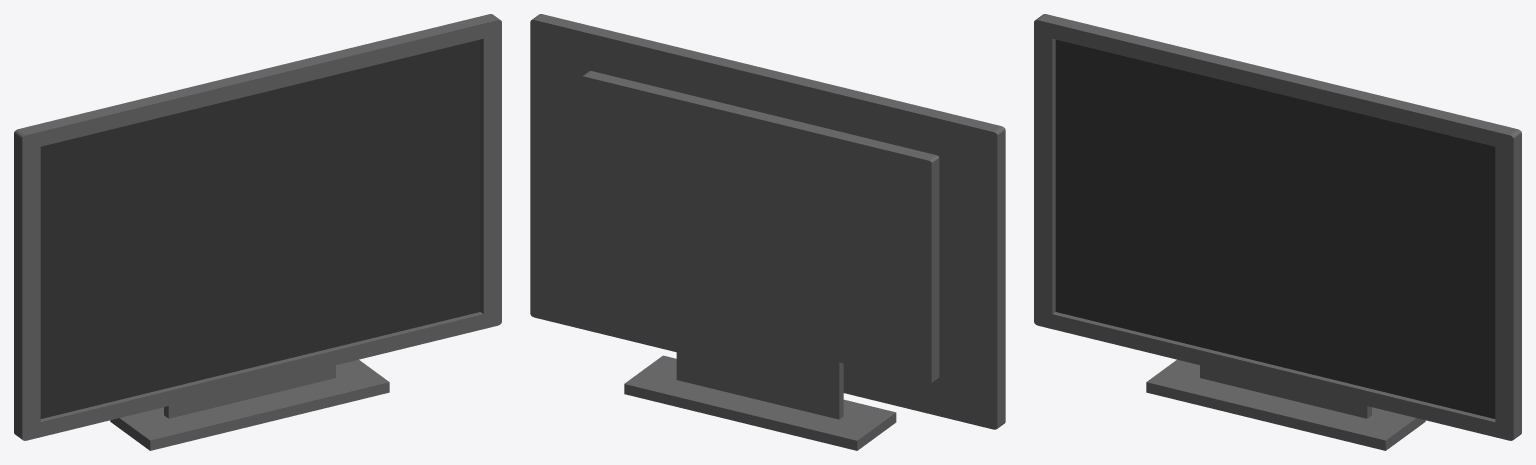
Rendered from pc_monitor.fbx.
3 views of the same model, side by side, from view 1: azimuth 30°, elevation 25°; view 2: azimuth 150°, elevation 25°; view 3: azimuth 330°, elevation 25° (orthographic). The views are drawn at different scales.
Parts seen in each view (by area): view 1: H_PC_Monitor; view 2: H_PC_Monitor; view 3: H_PC_Monitor.
Boxes of the visible parts, box(x1,y1,x2,y2) form: H_PC_Monitor: box(14, 14, 501, 450); H_PC_Monitor: box(530, 14, 1005, 450); H_PC_Monitor: box(1034, 14, 1521, 450).
Size of the model in its own units: 329 by 47.38 by 221.
